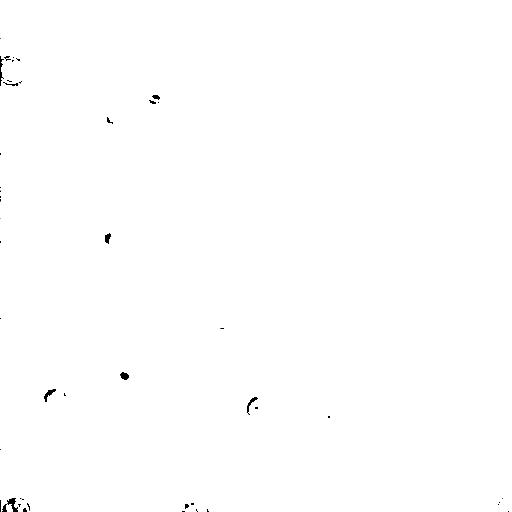micro-algae: (93, 101, 130, 131), (107, 359, 139, 390), (94, 224, 128, 253), (1, 54, 28, 86), (166, 491, 207, 511), (43, 386, 68, 411), (2, 492, 33, 512), (245, 396, 266, 416), (491, 490, 511, 510)
